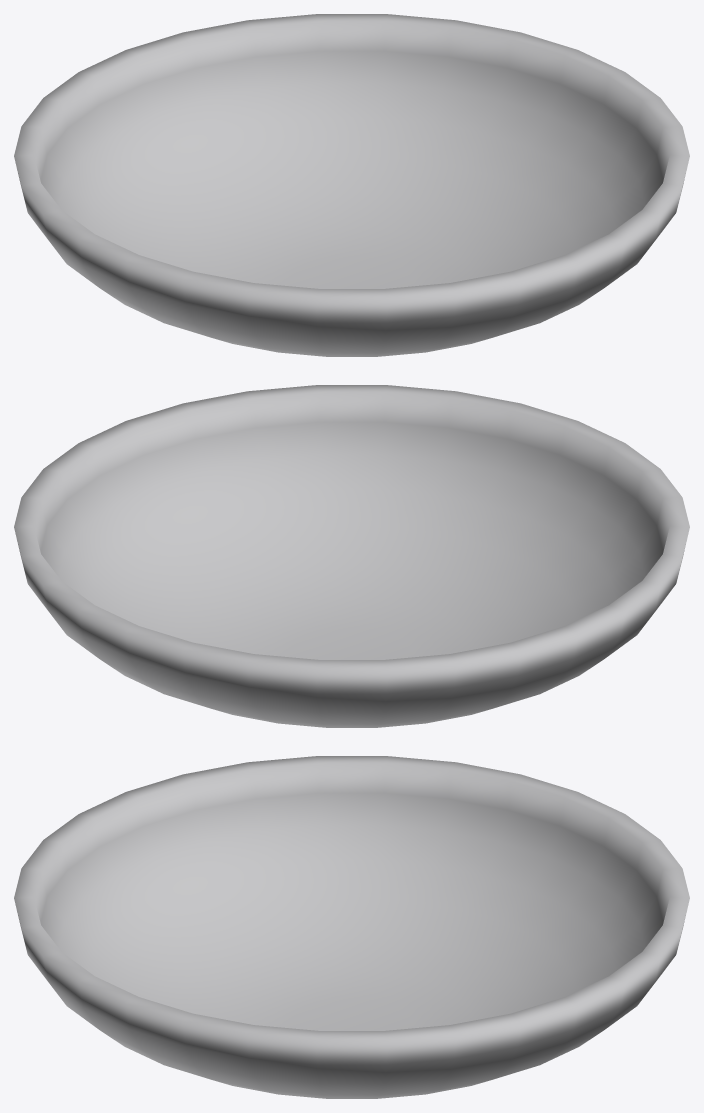
The model's file is _owl_1.fbx.
3 renders of one model, top to bottom at view 1: azimuth 30°, elevation 25°; view 2: azimuth 150°, elevation 25°; view 3: azimuth 270°, elevation 25°, orthographic.
Parts seen in each view (by area): view 1: Sphere.010; view 2: Sphere.010; view 3: Sphere.010.
Part boxes in pixels (x1,y1,x2,y2): Sphere.010: [14, 14, 689, 356]; Sphere.010: [14, 385, 689, 727]; Sphere.010: [14, 756, 689, 1098].
Bounding box in the file's own units: 31.58 × 6.84 × 31.75.
